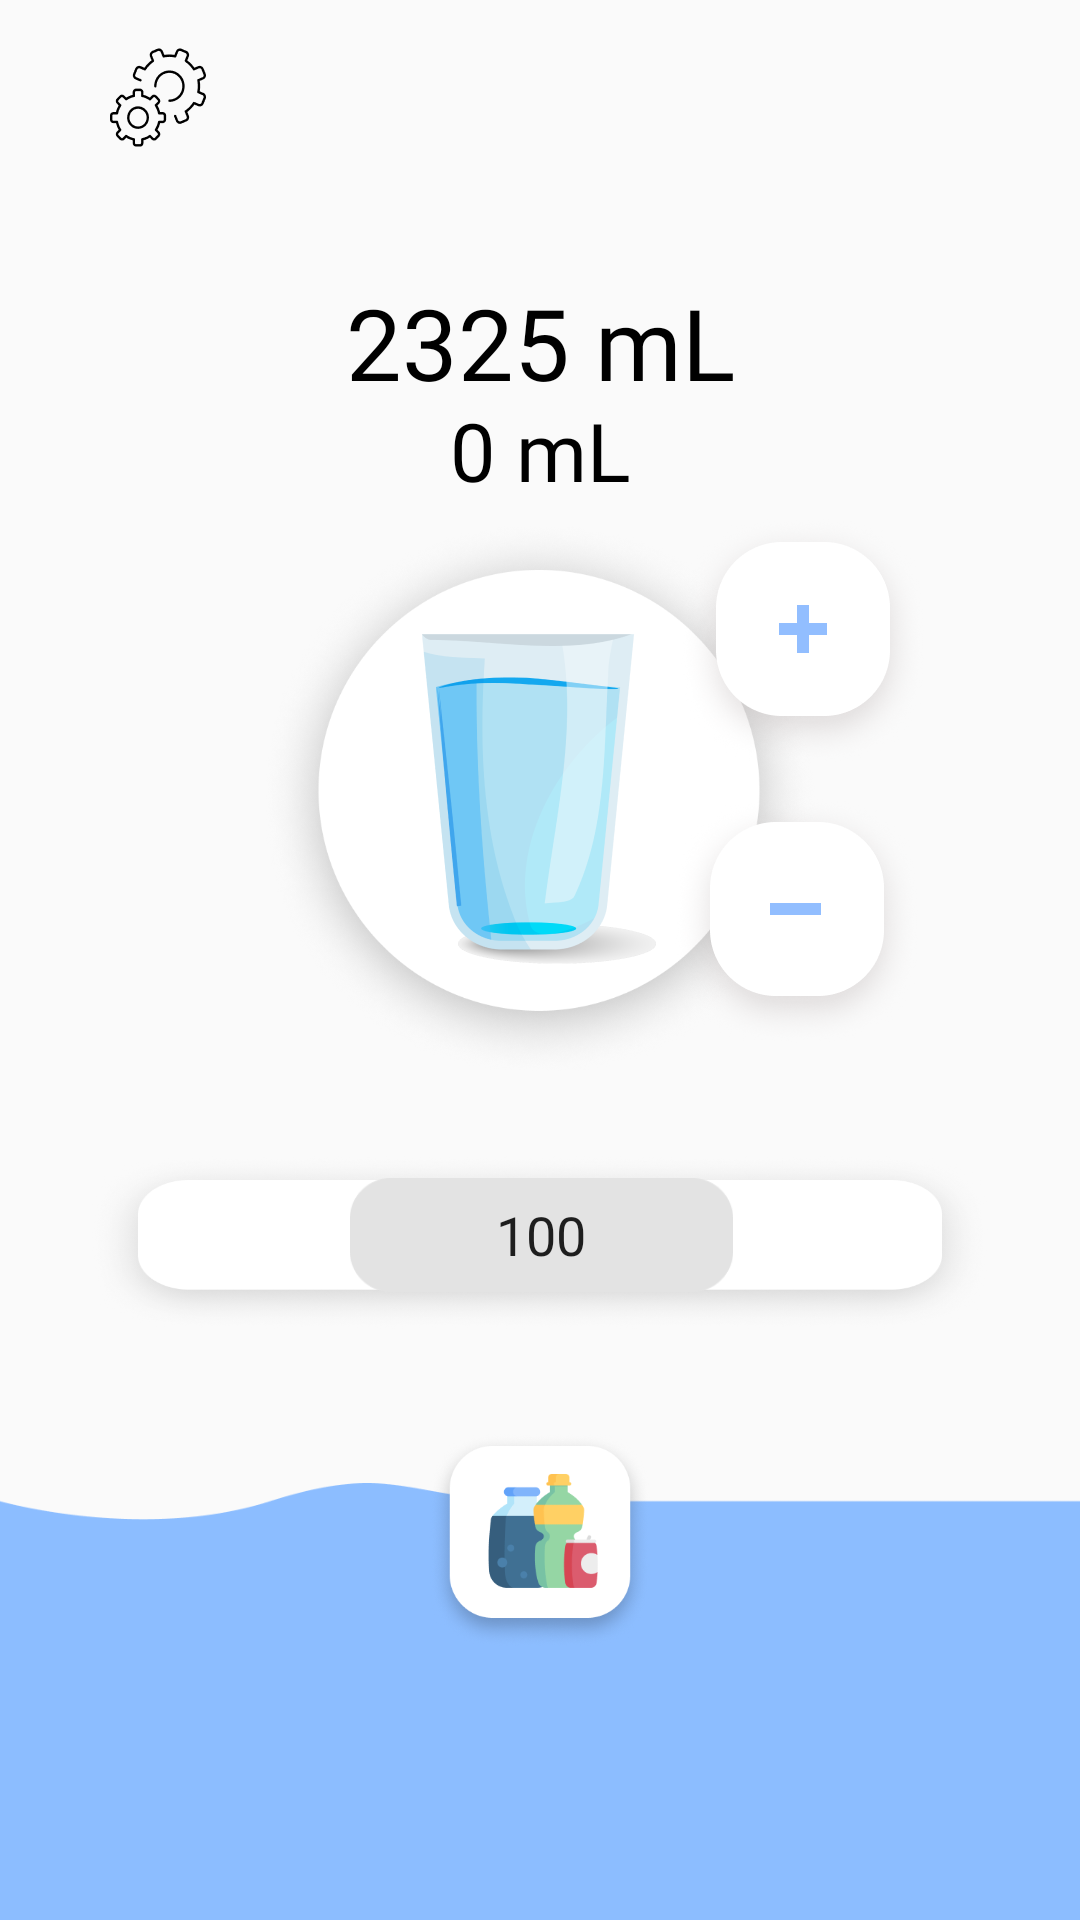

Screen size 1080px x 1920px. Icon name, then its box in pixels as bbox(x1, y1, x2, y2):
settings: bbox(110, 48, 206, 147)
